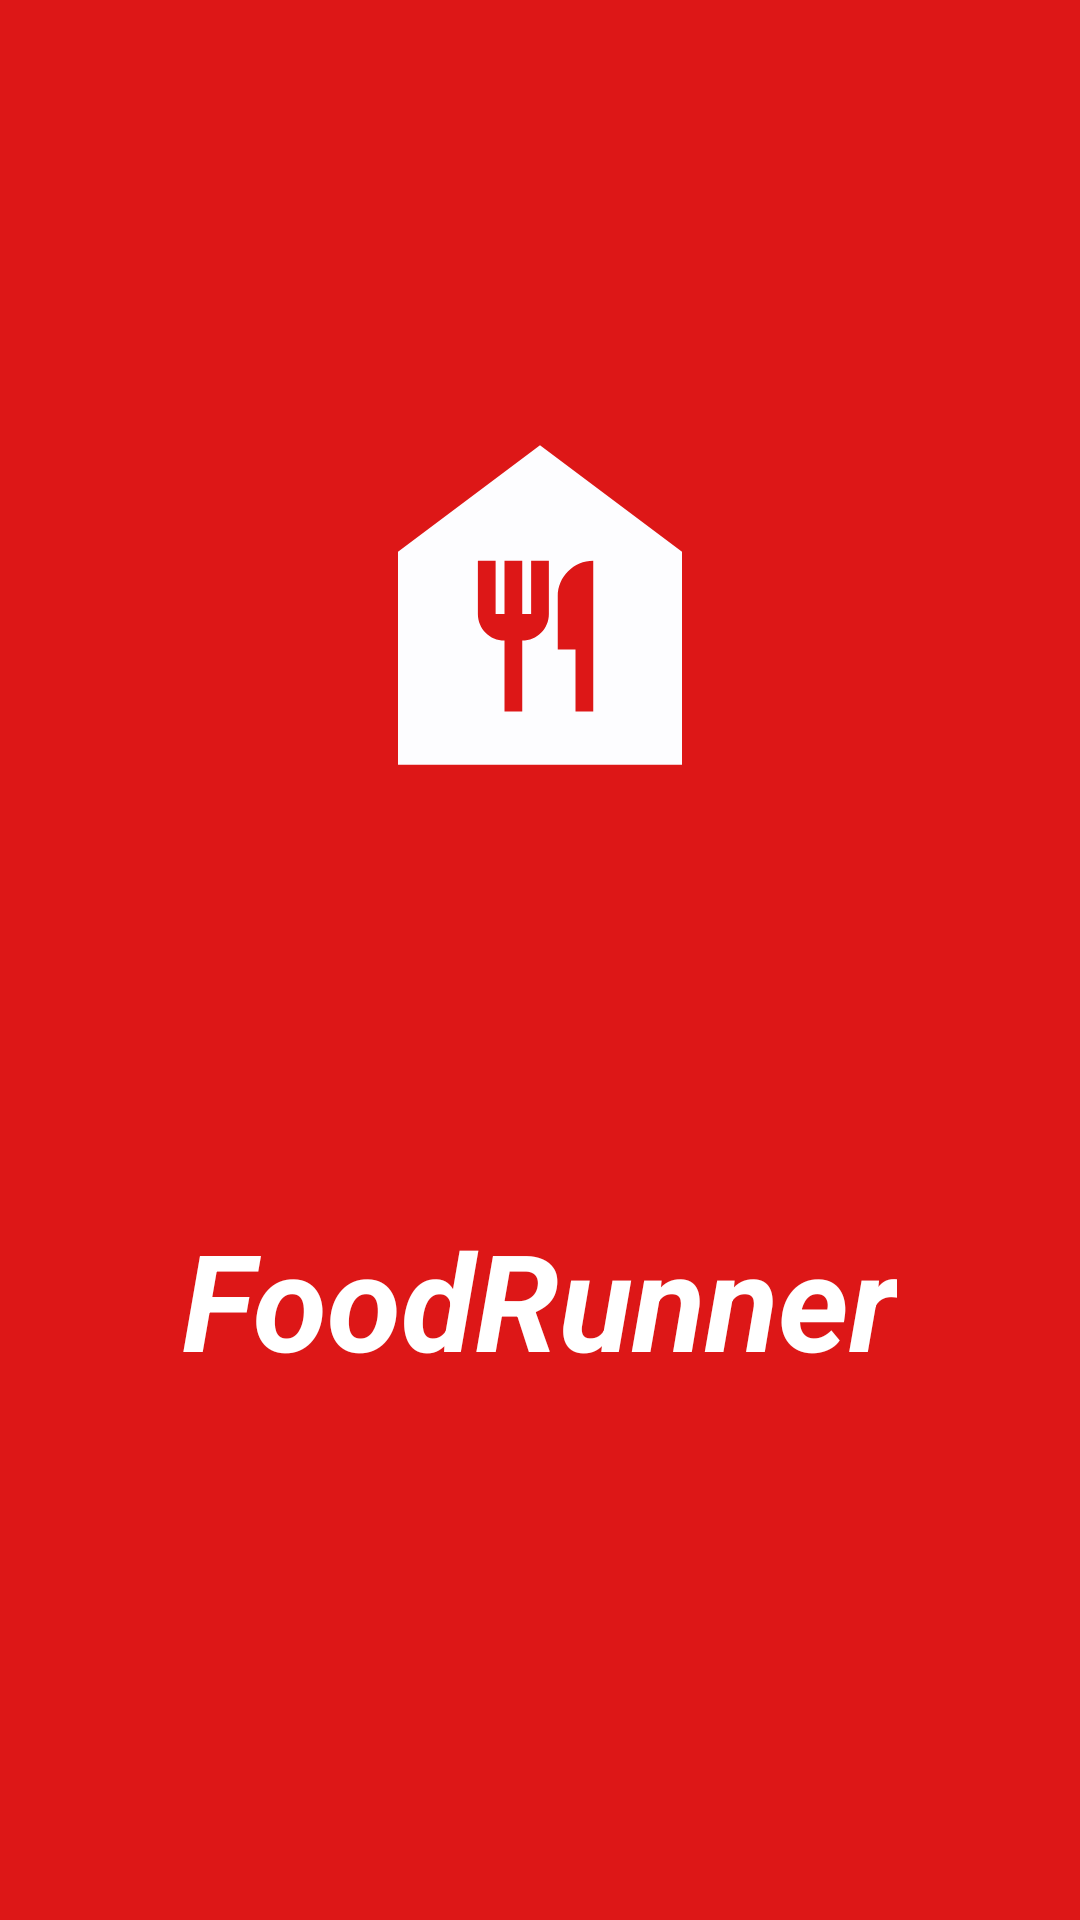

Icon bounding boxes for this 1080*1920 phone screenshot, format (x1, y1, x2, y2):
foodicon: (398, 445, 682, 765)
